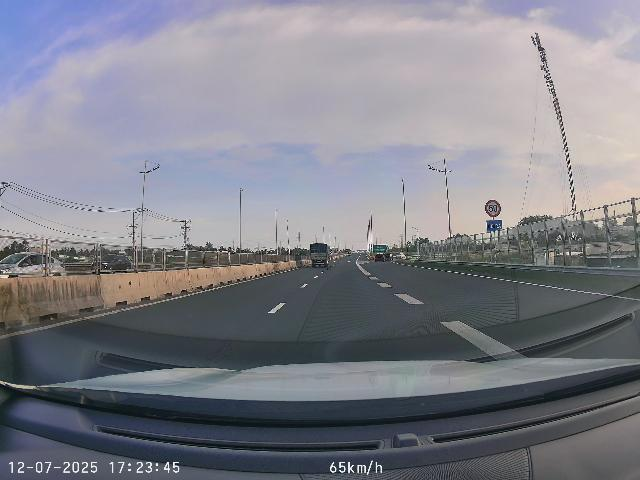127-toc-do-toi-da-50: (485, 199, 501, 218)
